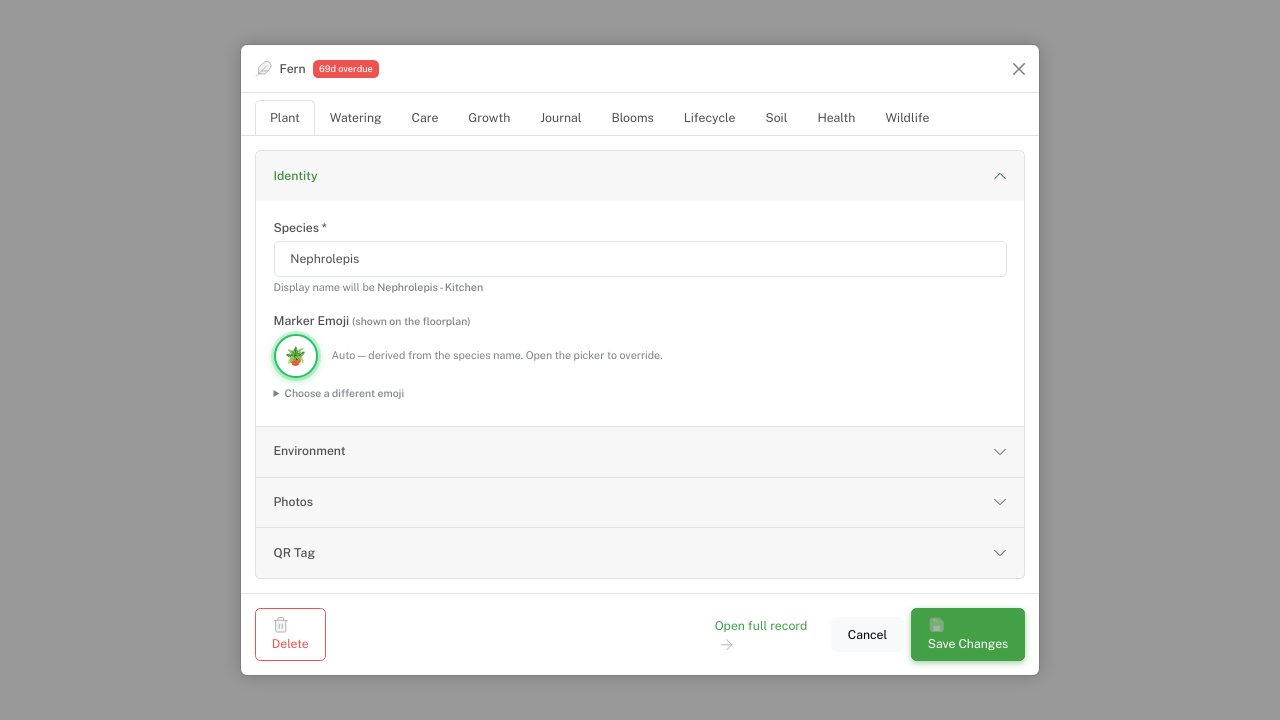
Test: PlantModal › shows health and maturity on the Care tab
The width and height of the screenshot is (1280, 720).
Click the tab "Care" at x=425, y=118, box [397, 100, 453, 136]
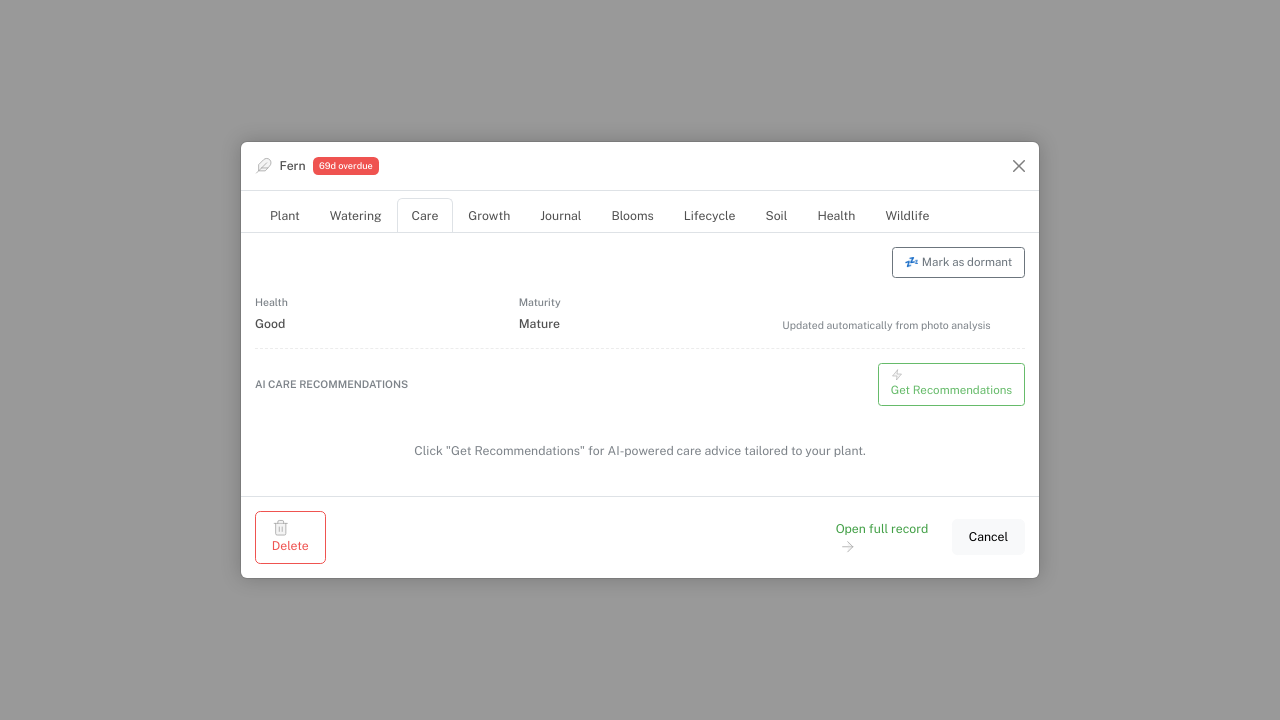
expect the text "Good" is shown: met, box [255, 317, 285, 332]
expect the text "Mature" is shown: met, box [519, 317, 560, 332]
